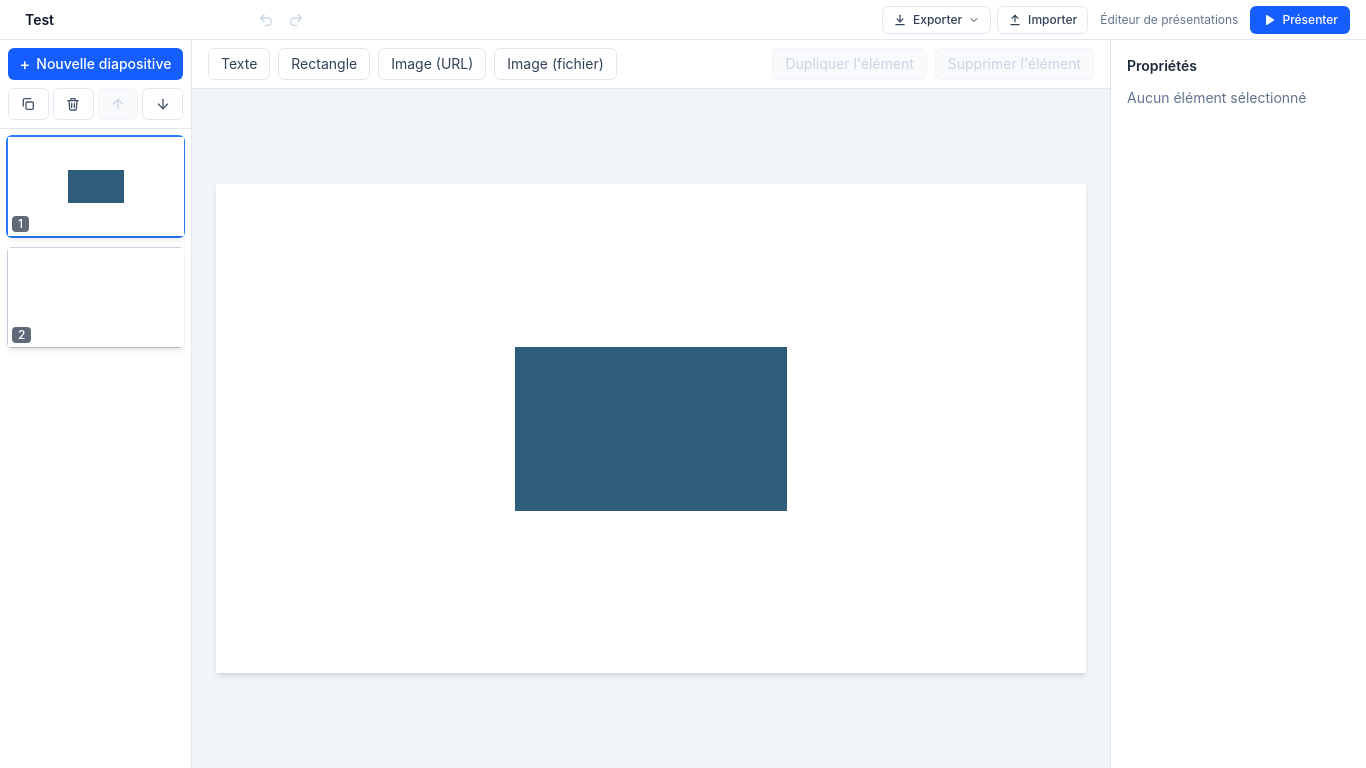
Test: EditorLayout : limite d'éléments par diapositive › la limite vaut par diapositive : une autre diapositive reste libre
The width and height of the screenshot is (1366, 768).
Click the button "Rectangle". click: (324, 64)
box: x1=278 y1=48 x2=370 y2=80
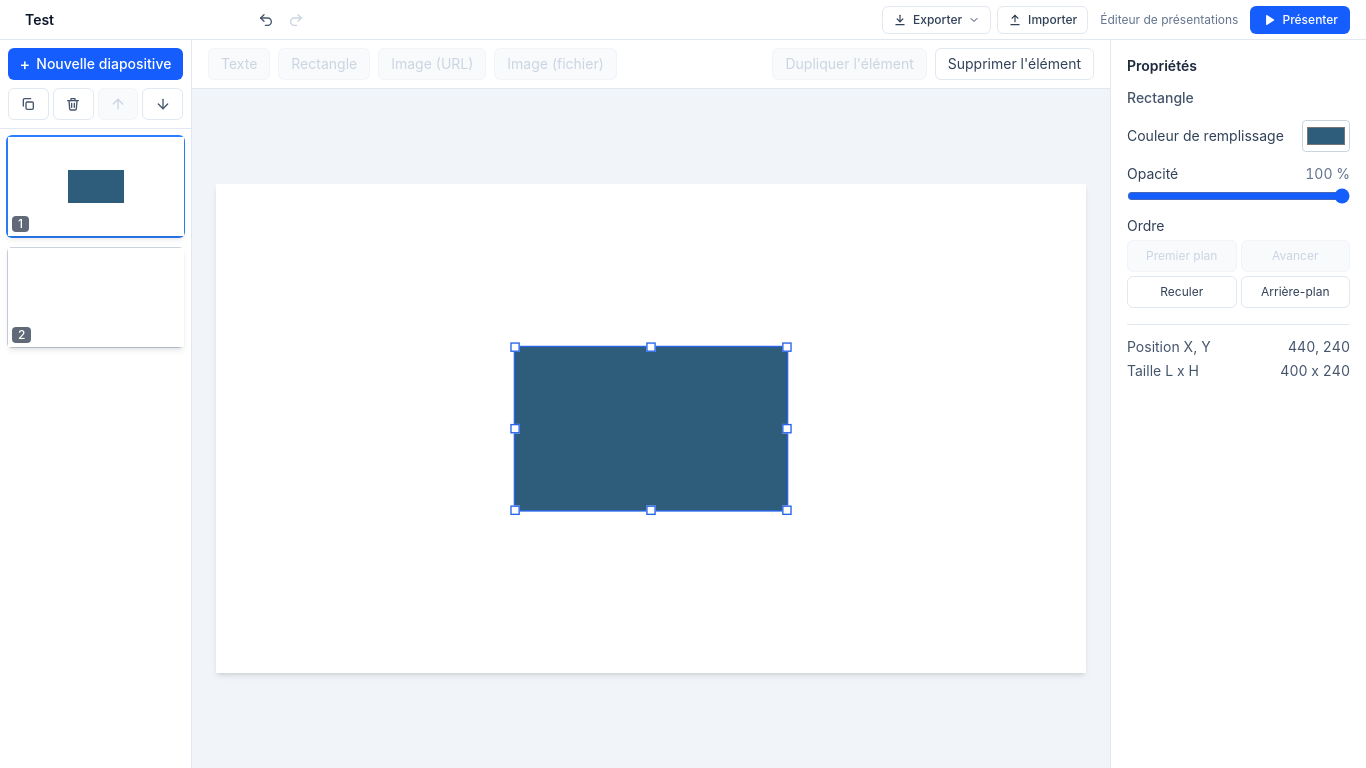
Expected: the button "Texte" is disabled, x1=208 y1=48 x2=270 y2=80
Click the button named "Diapositive 2". click: (96, 298)
box: x1=8 y1=248 x2=183 y2=347
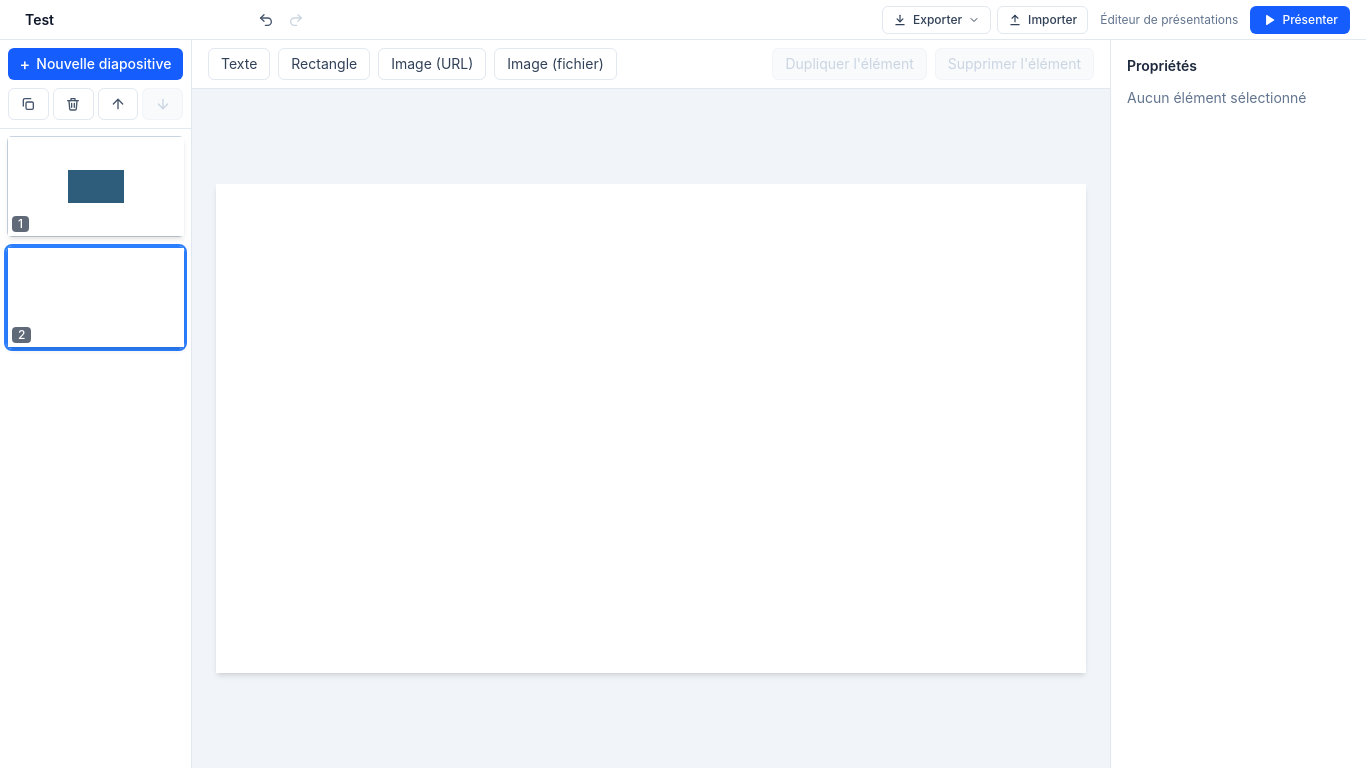
Expected: the button "Texte" is enabled, x1=208 y1=48 x2=270 y2=80
